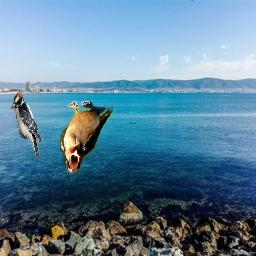Swallow: (61, 102, 114, 175)
Woodpecker: (9, 94, 41, 159)
